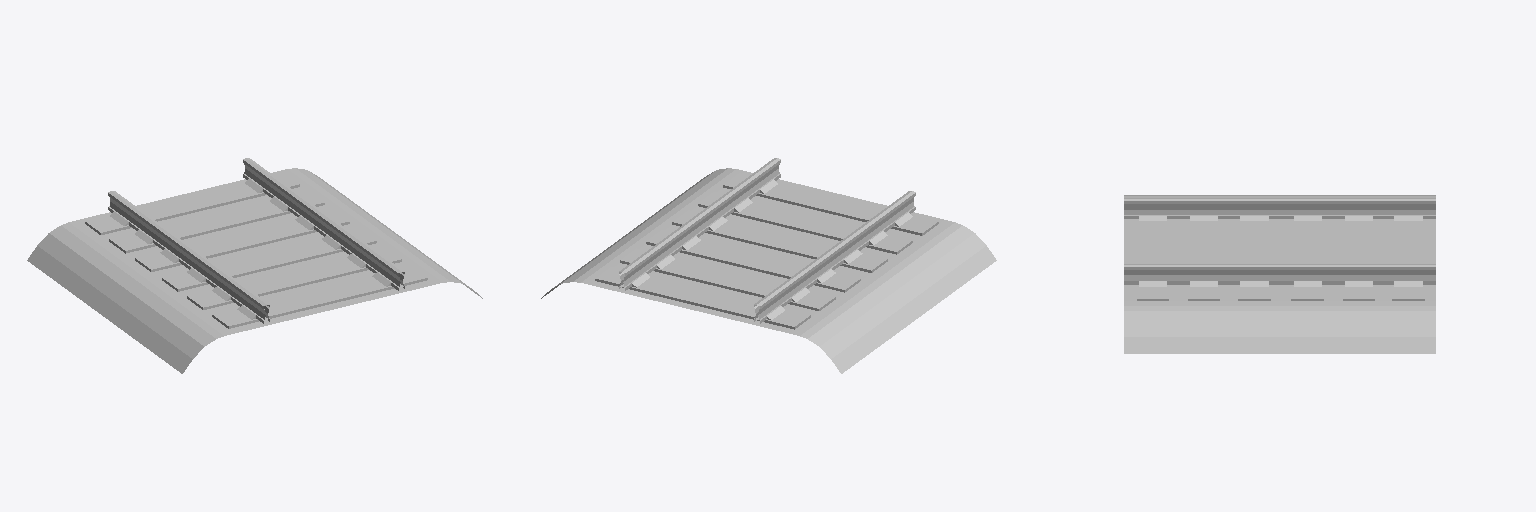
3 views of the same model, side by side, from view 1: azimuth 30°, elevation 25°; view 2: azimuth 150°, elevation 25°; view 3: azimuth 270°, elevation 25° (orthographic).
Visible parts, largest first — view 1: Rails_Cube.002_Cube.126; view 2: Rails_Cube.002_Cube.126; view 3: Rails_Cube.002_Cube.126.
Part boxes in pixels (left/top/right/bottom): Rails_Cube.002_Cube.126: left=27, top=158, right=482, bottom=373; Rails_Cube.002_Cube.126: left=541, top=158, right=996, bottom=373; Rails_Cube.002_Cube.126: left=1124, top=195, right=1435, bottom=353.
Bounding box in the file's own units: 15.82 × 2.45 × 14.1.